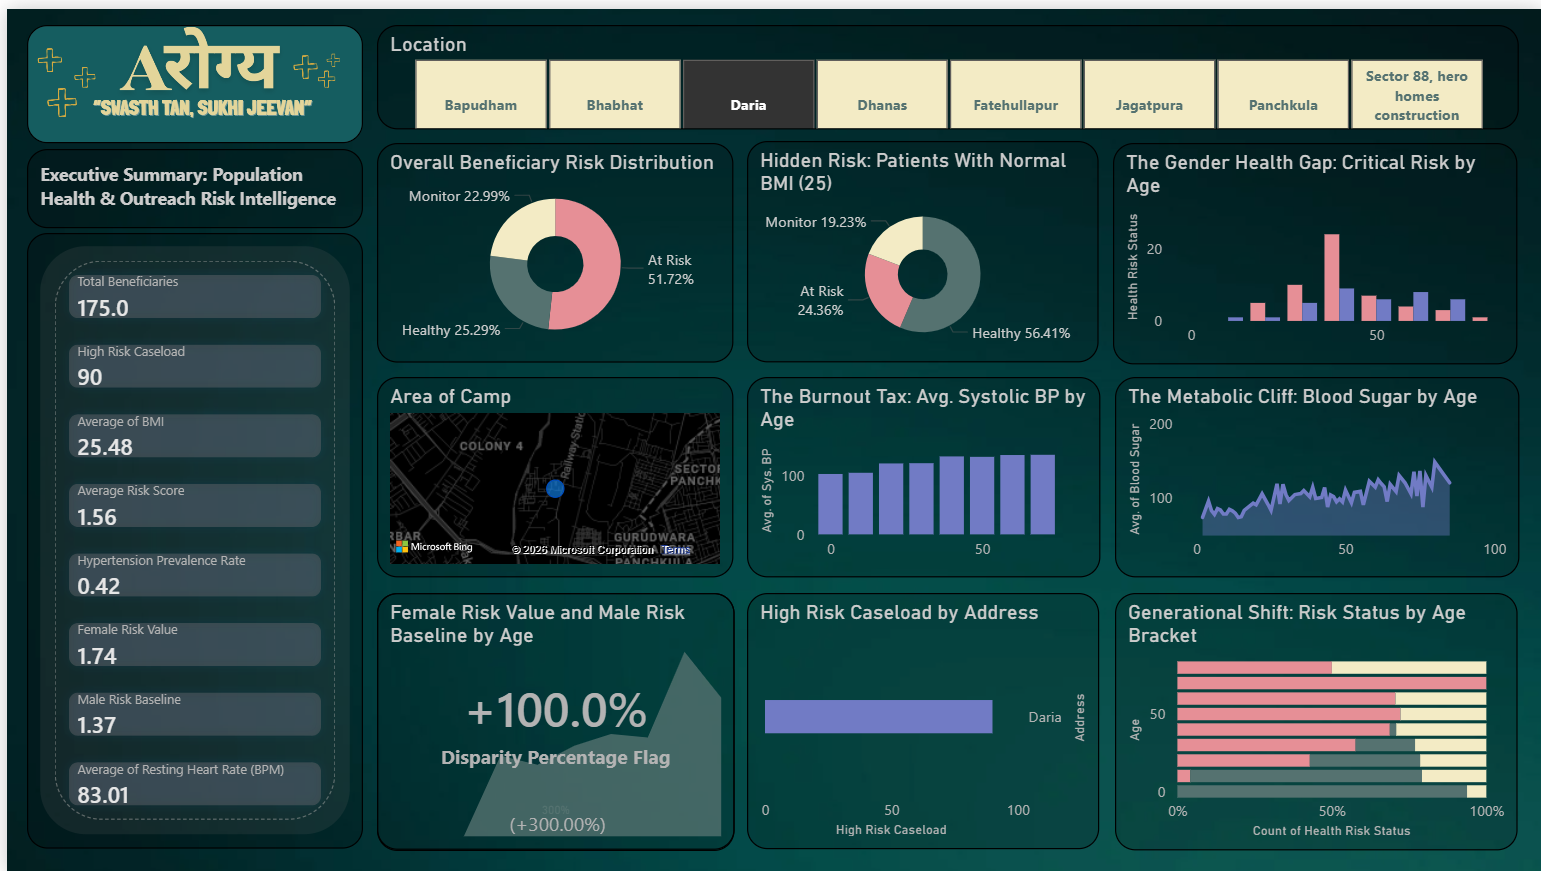

This screenshot's page, from the dashboard's own definition file:
{"tool":"powerbi","page":{"name":"Page 1","canvas":[1280,720],"ordinal":0},"visuals":[{"type":"donutChart","title":"Overall Beneficiary Risk Distribution","fields":{"Category":["Sheet1.Health Risk Status"],"Y":["CountNonNull(Sheet1.Health Risk Status)"]},"box":[308.6,111.4,297.1,182.9],"z":0},{"type":"hundredPercentStackedBarChart","title":"Generational Shift: Risk Status by Age Bracket","fields":{"Category":["Sheet1.Age (bins)"],"Y":["CountNonNull(Sheet1.Health Risk Status)"],"Series":["Sheet1.Health Risk Status"]},"box":[922.7,486.4,335.5,214.5],"z":1000},{"type":"lineChart","title":"The Metabolic Cliff: Blood Sugar by Age","fields":{"Category":["Sheet1.Age"],"Y":["Avg(Sheet1.Blood Sugar)"]},"box":[922.9,307.1,337.1,167.1],"z":2000},{"type":"clusteredColumnChart","title":"The Gender Health Gap: Critical Risk by Age","fields":{"Category":["Sheet1.Age (bins)"],"Series":["Sheet1.Gender"],"Y":["CountNonNull(Sheet1.Health Risk Status)"]},"box":[921.4,111.4,337.1,184.3],"z":3000},{"type":"slicer","title":"Location","fields":{"Values":["Sheet1.Address"]},"box":[308.6,12.9,951.4,87],"z":4000},{"type":"map","title":"Area of Camp","fields":{"Y":["Sheet1 (4).Latitude"],"X":["Sheet1 (4).Longitute"],"Size":["CountNonNull(Sheet1.Health Risk Status)"]},"box":[308.6,307.1,297.1,167.1],"z":5000},{"type":"donutChart","title":"Hidden Risk: Patients With Normal BMI (25)","fields":{"Category":["Sheet1.Health Risk Status"],"Y":["CountNonNull(Sheet1.Health Risk Status)"]},"box":[616.7,110,292.9,184.3],"z":6000},{"type":"clusteredColumnChart","title":"The Burnout Tax: Avg. Systolic BP by Age","fields":{"Category":["Sheet1.Age (bins)"],"Y":["Avg(Sheet1.Systolic BP)"]},"box":[617.1,307.1,294.3,167.1],"z":7000},{"type":"cardVisual","fields":{"Data":["_Calculated Measures.'Total_Beneficiaries'","_Calculated Measures.High_Risk_Caseload","Avg(Sheet1 (4).BMI)","_Calculated Measures.Avg_Risk_Score","_Calculated Measures.Hypertension_Prevalence_Rate","_Calculated Measures.Female_Risk_Value","_Calculated Measures.Male_Risk_Baseline","Avg(Sheet1 (4).Resting Heart Rate (BPM))"]},"box":[17.1,187.1,280,512.9],"z":8000},{"type":"image","box":[16.7,13.3,280,98.3],"z":9000},{"type":"kpi","title":"Female Risk Value and Male Risk Baseline by Age","fields":{"Goal":["_Calculated Measures.Male Risk Baseline"],"Indicator":["_Calculated Measures.Female Risk Value"],"TrendLine":["Sheet1.Age (bins)"]},"box":[308,486,298,214],"z":10000},{"type":"clusteredBarChart","fields":{"Category":["Sheet1.Address"],"Y":["_Calculated Measures.High Risk Caseload"]},"box":[617.3,486.4,293.6,213.6],"z":11000},{"type":"textbox","box":[16.7,116.7,280,66],"z":12000},{"type":"cardVisual","fields":{"Data":["_Calculated Measures.Disparity Percentage Flag"]},"box":[308,486,298,215],"z":13000}]}

Visuals, with their boxes in screenshot pixels (x1, y1, x2, y2), scaled from the page's 1280x720 canvas onto the 1541x871 screenshot:
"Overall Beneficiary Risk Distribution" donutChart: (372,135,729,356)
"Generational Shift: Risk Status by Age Bracket" hundredPercentStackedBarChart: (1111,588,1515,848)
"The Metabolic Cliff: Blood Sugar by Age" lineChart: (1111,372,1517,574)
"The Gender Health Gap: Critical Risk by Age" clusteredColumnChart: (1109,135,1515,358)
"Location" slicer: (372,16,1517,121)
"Area of Camp" map: (372,372,729,574)
"Hidden Risk: Patients With Normal BMI (25)" donutChart: (742,133,1095,356)
"The Burnout Tax: Avg. Systolic BP by Age" clusteredColumnChart: (743,372,1097,574)
cardVisual - _Calculated Measures.'Total_Beneficiaries' x _Calculated Measures.High_Risk_Caseload: (21,226,358,847)
image: (20,16,357,135)
"Female Risk Value and Male Risk Baseline by Age" kpi: (371,588,730,847)
clusteredBarChart - Sheet1.Address x _Calculated Measures.High Risk Caseload: (743,588,1097,847)
textbox: (20,141,357,221)
cardVisual - _Calculated Measures.Disparity Percentage Flag: (371,588,730,848)
